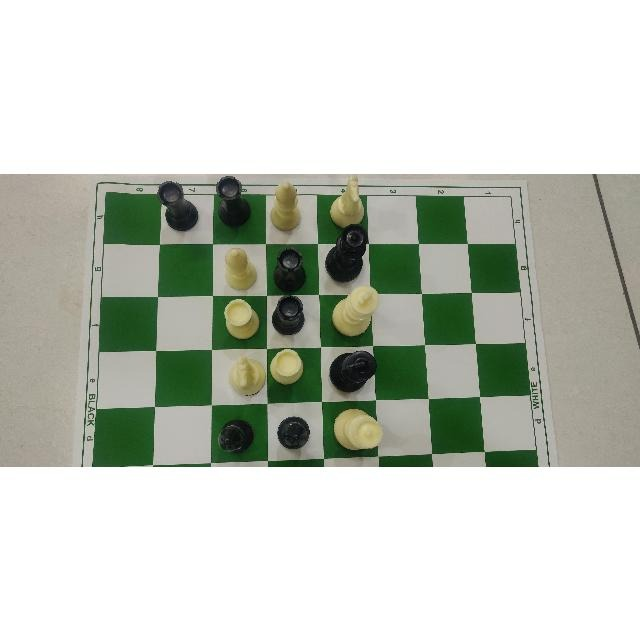black-bishop: (213, 418, 257, 455), (278, 413, 312, 449)
black-king: (330, 348, 380, 392)
black-queen: (325, 225, 369, 283)
black-rook: (153, 178, 202, 233), (214, 173, 252, 229), (274, 245, 313, 293), (272, 294, 304, 336)
white-bishop: (270, 180, 302, 234), (221, 246, 257, 290)
white-king: (333, 284, 377, 339)
white-knight: (331, 175, 367, 224), (229, 353, 267, 394)
white-queen: (330, 405, 385, 449)
white-rook: (221, 296, 261, 342), (270, 349, 306, 387)
